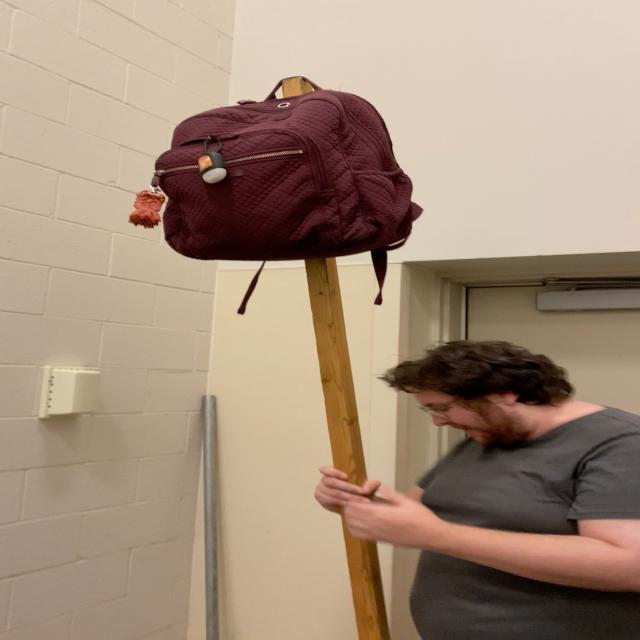Backpacks: (149, 89, 431, 264)
